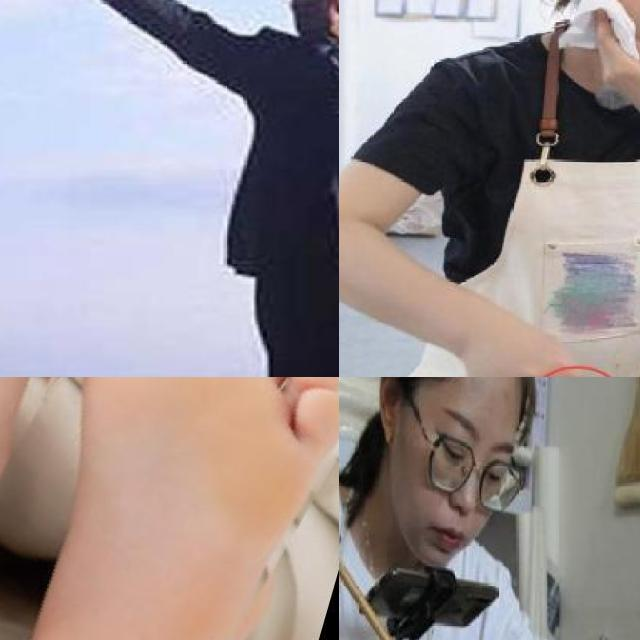Barefoots: (0, 377, 339, 640), (0, 377, 140, 640)
No_Ear-Protection: (374, 377, 403, 444)
face_nomask: (387, 396, 520, 570), (287, 0, 339, 44)
glasses: (421, 428, 527, 513)
hand_noglove: (589, 10, 640, 108), (460, 344, 593, 377)
person: (380, 0, 640, 377), (339, 377, 640, 640), (186, 0, 339, 377)
